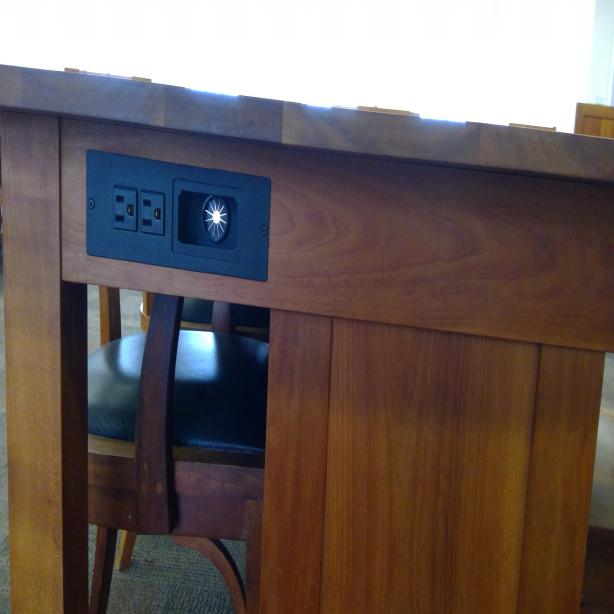typeb: (108, 186, 138, 230), (142, 191, 164, 236)
